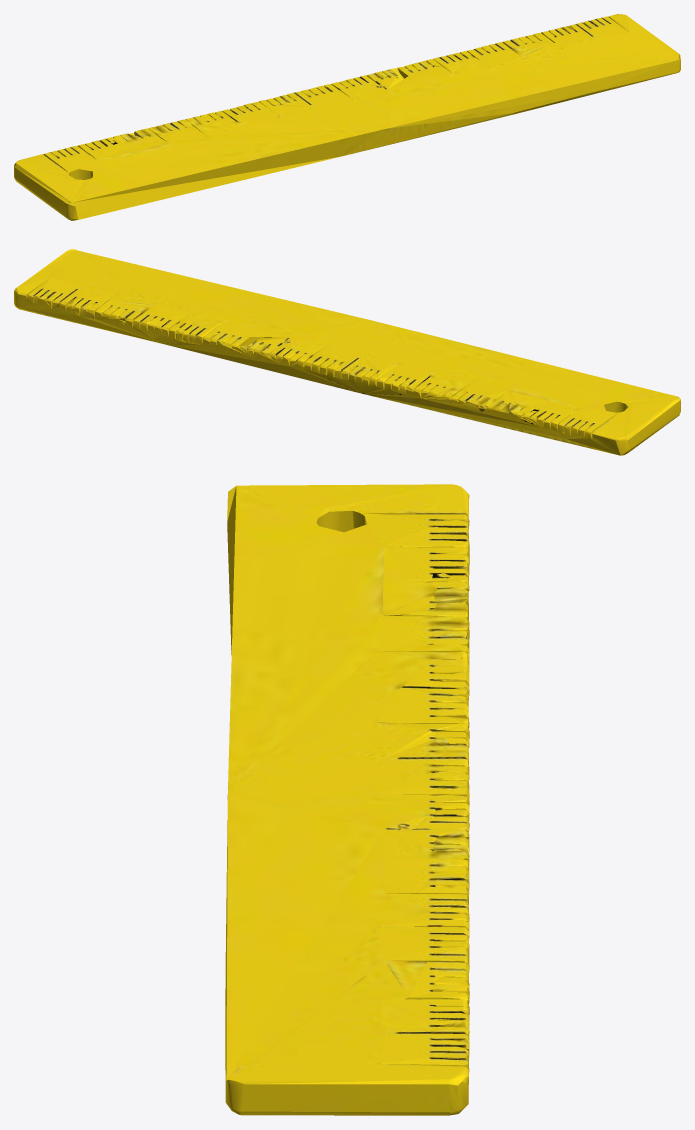
Rendered from ruler.glb.
3 views of the same model, one above another, from view 1: azimuth 30°, elevation 25°; view 2: azimuth 150°, elevation 25°; view 3: azimuth 270°, elevation 25° (orthographic). The views are drawn at different scales.
Visible parts, largest first — view 1: output_unwrapped; view 2: output_unwrapped; view 3: output_unwrapped.
Boxes of the visible parts, x1,y1,x2,y2 form: output_unwrapped: [14, 14, 680, 220]; output_unwrapped: [14, 249, 680, 455]; output_unwrapped: [225, 484, 469, 1115].
Bounding box in the file's own units: 1.9 × 0.0585 × 0.3282.
1 material, 1 textured.
